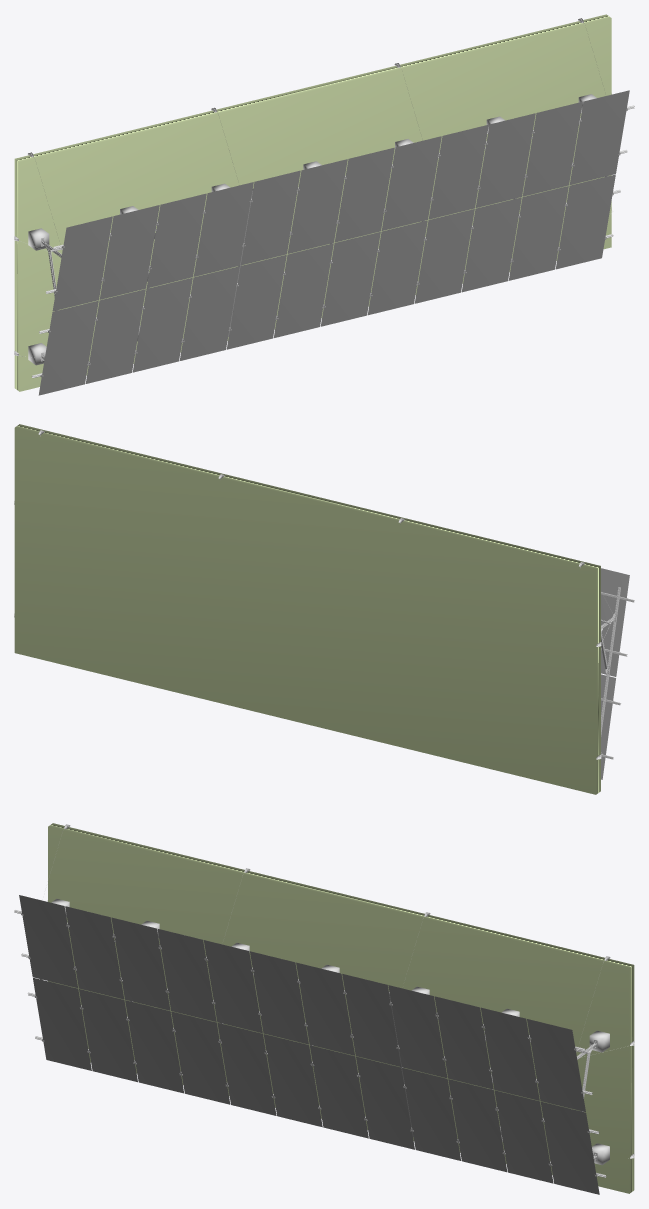
3 views of the same model, one above another, from view 1: azimuth 30°, elevation 25°; view 2: azimuth 150°, elevation 25°; view 3: azimuth 330°, elevation 25° (orthographic).
Visible parts, largest first — view 1: FamilySymbol 常规模型 <13972652 ZUJ043 JAM72S20-460/MR（35框） 460W (×20), FamilySymbol 常规模型 <13969664 光伏楼板>, FamilySymbol 常规模型 <13972642 ZUJ043 JAM72S20-460/MR（35框） 460W (×2), FamilySymbol 常规模型 <13972705 ZUJ043 JAM72S20-460/MR（35框） 460W (×2), FamilySymbol 常规模型 <13970437 72版型166电池2竖>; view 2: FamilySymbol 常规模型 <13969664 光伏楼板>, FamilySymbol 常规模型 <13972642 ZUJ043 JAM72S20-460/MR（35框） 460W (×2); view 3: FamilySymbol 常规模型 <13972652 ZUJ043 JAM72S20-460/MR（35框） 460W (×20), FamilySymbol 常规模型 <13969664 光伏楼板>, FamilySymbol 常规模型 <13972642 ZUJ043 JAM72S20-460/MR（35框） 460W (×2), FamilySymbol 常规模型 <13972705 ZUJ043 JAM72S20-460/MR（35框） 460W (×2), FamilySymbol 常规模型 <13970437 72版型166电池2竖>.
Part boxes in pixels (x1,y1,x2,y2): FamilySymbol 常规模型 <13972652 ZUJ043 JAM72S20-460/MR（35框） 460W (×20): (85,102,582,383); FamilySymbol 常规模型 <13969664 光伏楼板>: (14,14,611,391); FamilySymbol 常规模型 <13972642 ZUJ043 JAM72S20-460/MR（35框） 460W (×2): (38,216,112,395); FamilySymbol 常规模型 <13972705 ZUJ043 JAM72S20-460/MR（35框） 460W (×2): (555,90,629,269); FamilySymbol 常规模型 <13970437 72版型166电池2竖>: (28,228,49,365); FamilySymbol 常规模型 <13969664 光伏楼板>: (14,424,600,794); FamilySymbol 常规模型 <13972642 ZUJ043 JAM72S20-460/MR（35框） 460W (×2): (601,568,629,779); FamilySymbol 常规模型 <13972652 ZUJ043 JAM72S20-460/MR（35框） 460W (×20): (65,906,553,1183); FamilySymbol 常规模型 <13969664 光伏楼板>: (48,823,634,1193); FamilySymbol 常规模型 <13972642 ZUJ043 JAM72S20-460/MR（35框） 460W (×2): (19,895,91,1070); FamilySymbol 常规模型 <13972705 ZUJ043 JAM72S20-460/MR（35框） 460W (×2): (527,1019,599,1194); FamilySymbol 常规模型 <13970437 72版型166电池2竖>: (589,1030,609,1165).
Size of the model in its own units: 13620 by 5060 by 1754.
